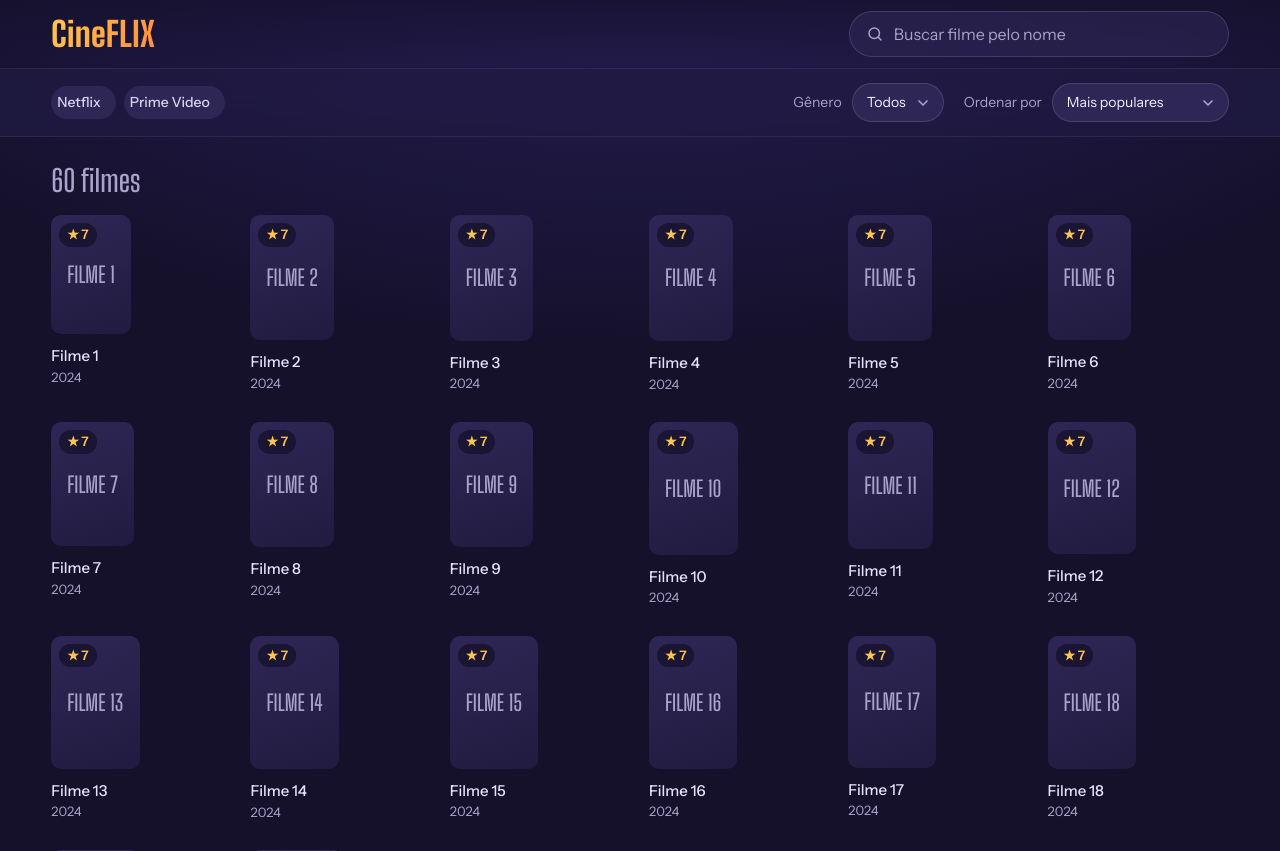
Test case: a prévia abre a janela completa sem pedir o filme de novo ao TMDB
The image size is (1280, 851).
Hover over the button "Filme 1 ★ 7 Filme 1 2024" at (142, 304), box 51,215 -> 232,394
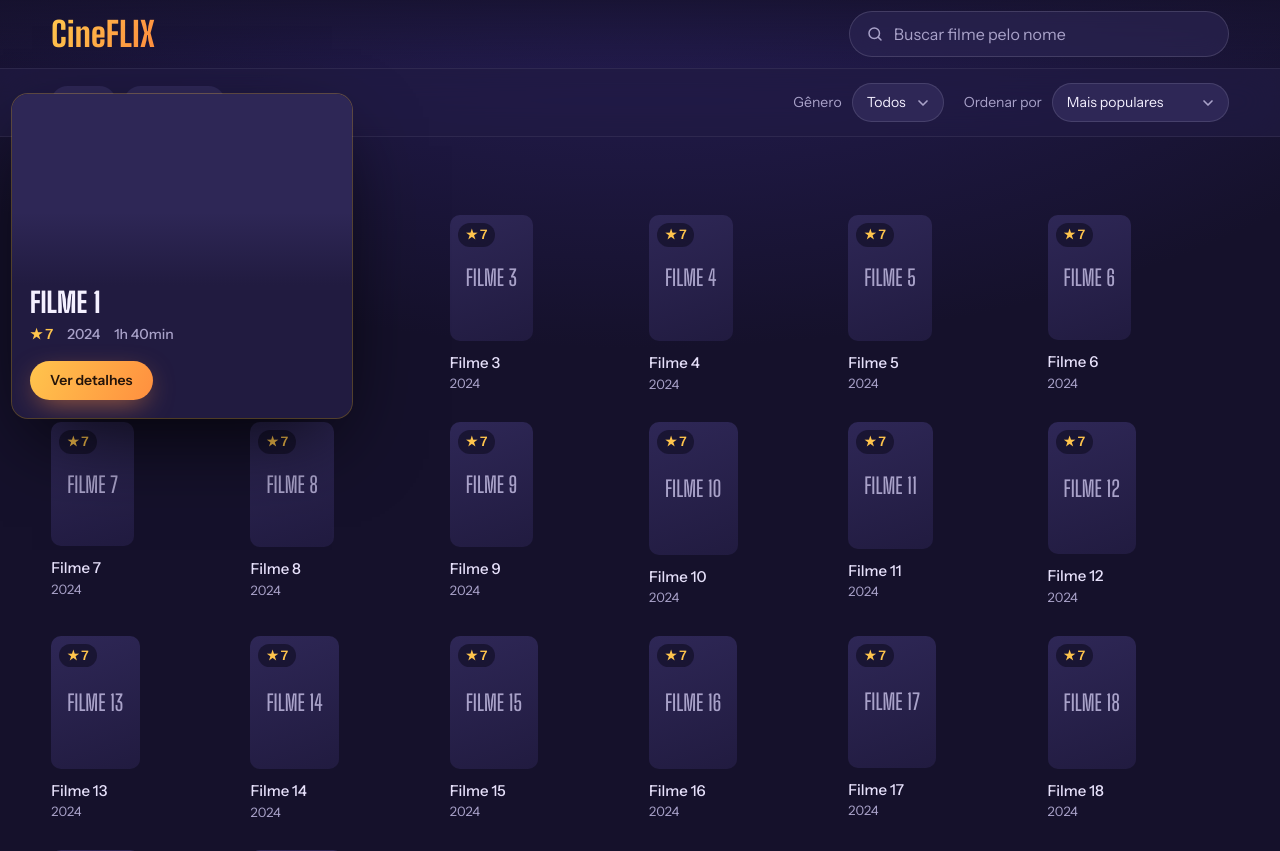
Check: the text "1h 40min" is shown, box 114,324 -> 174,345
Click the button "Ver detalhes" at (91, 380), box 30,361 -> 152,400
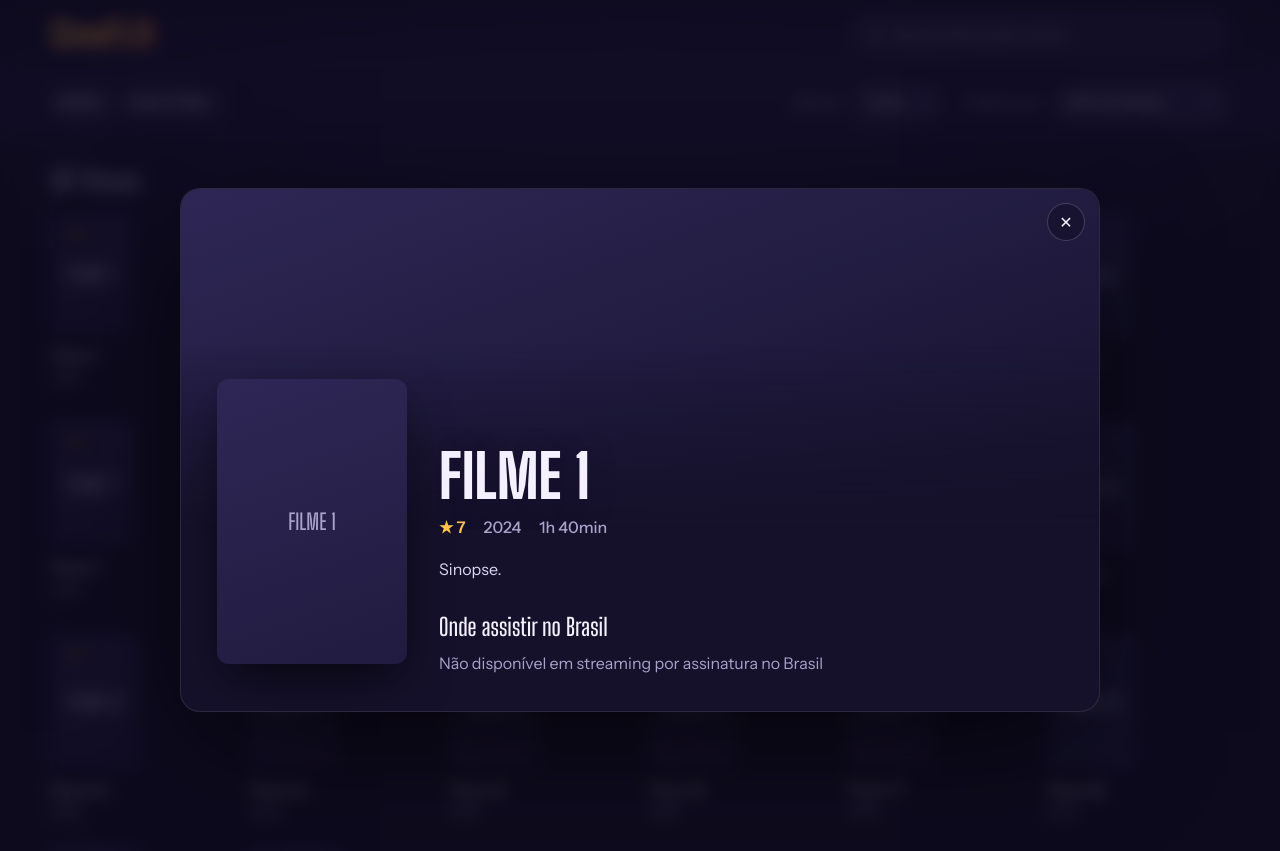
Check: the dialog "Filme 1" is shown, box 180,188 -> 1100,712
